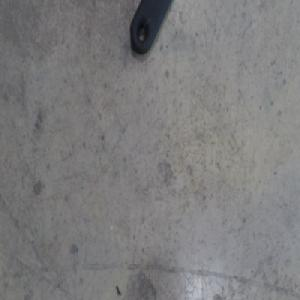AdjustableWrench: (130, 0, 168, 54)
